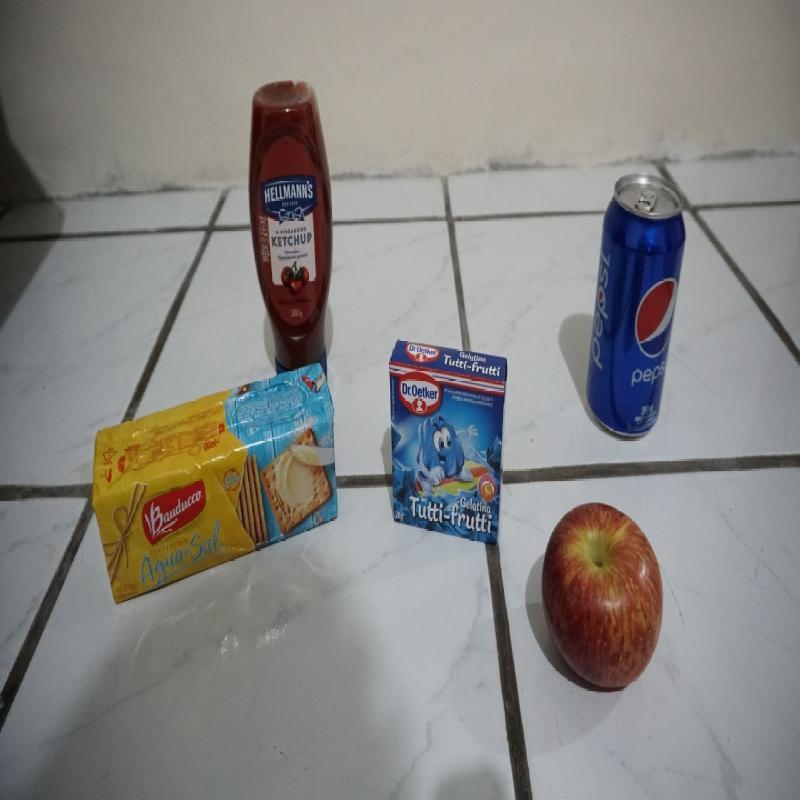Apple: (541, 495, 668, 696)
Cracker: (93, 361, 342, 604)
Gelatine: (387, 331, 508, 550)
Ketchup: (248, 78, 336, 356)
Soda can: (589, 173, 688, 442)
